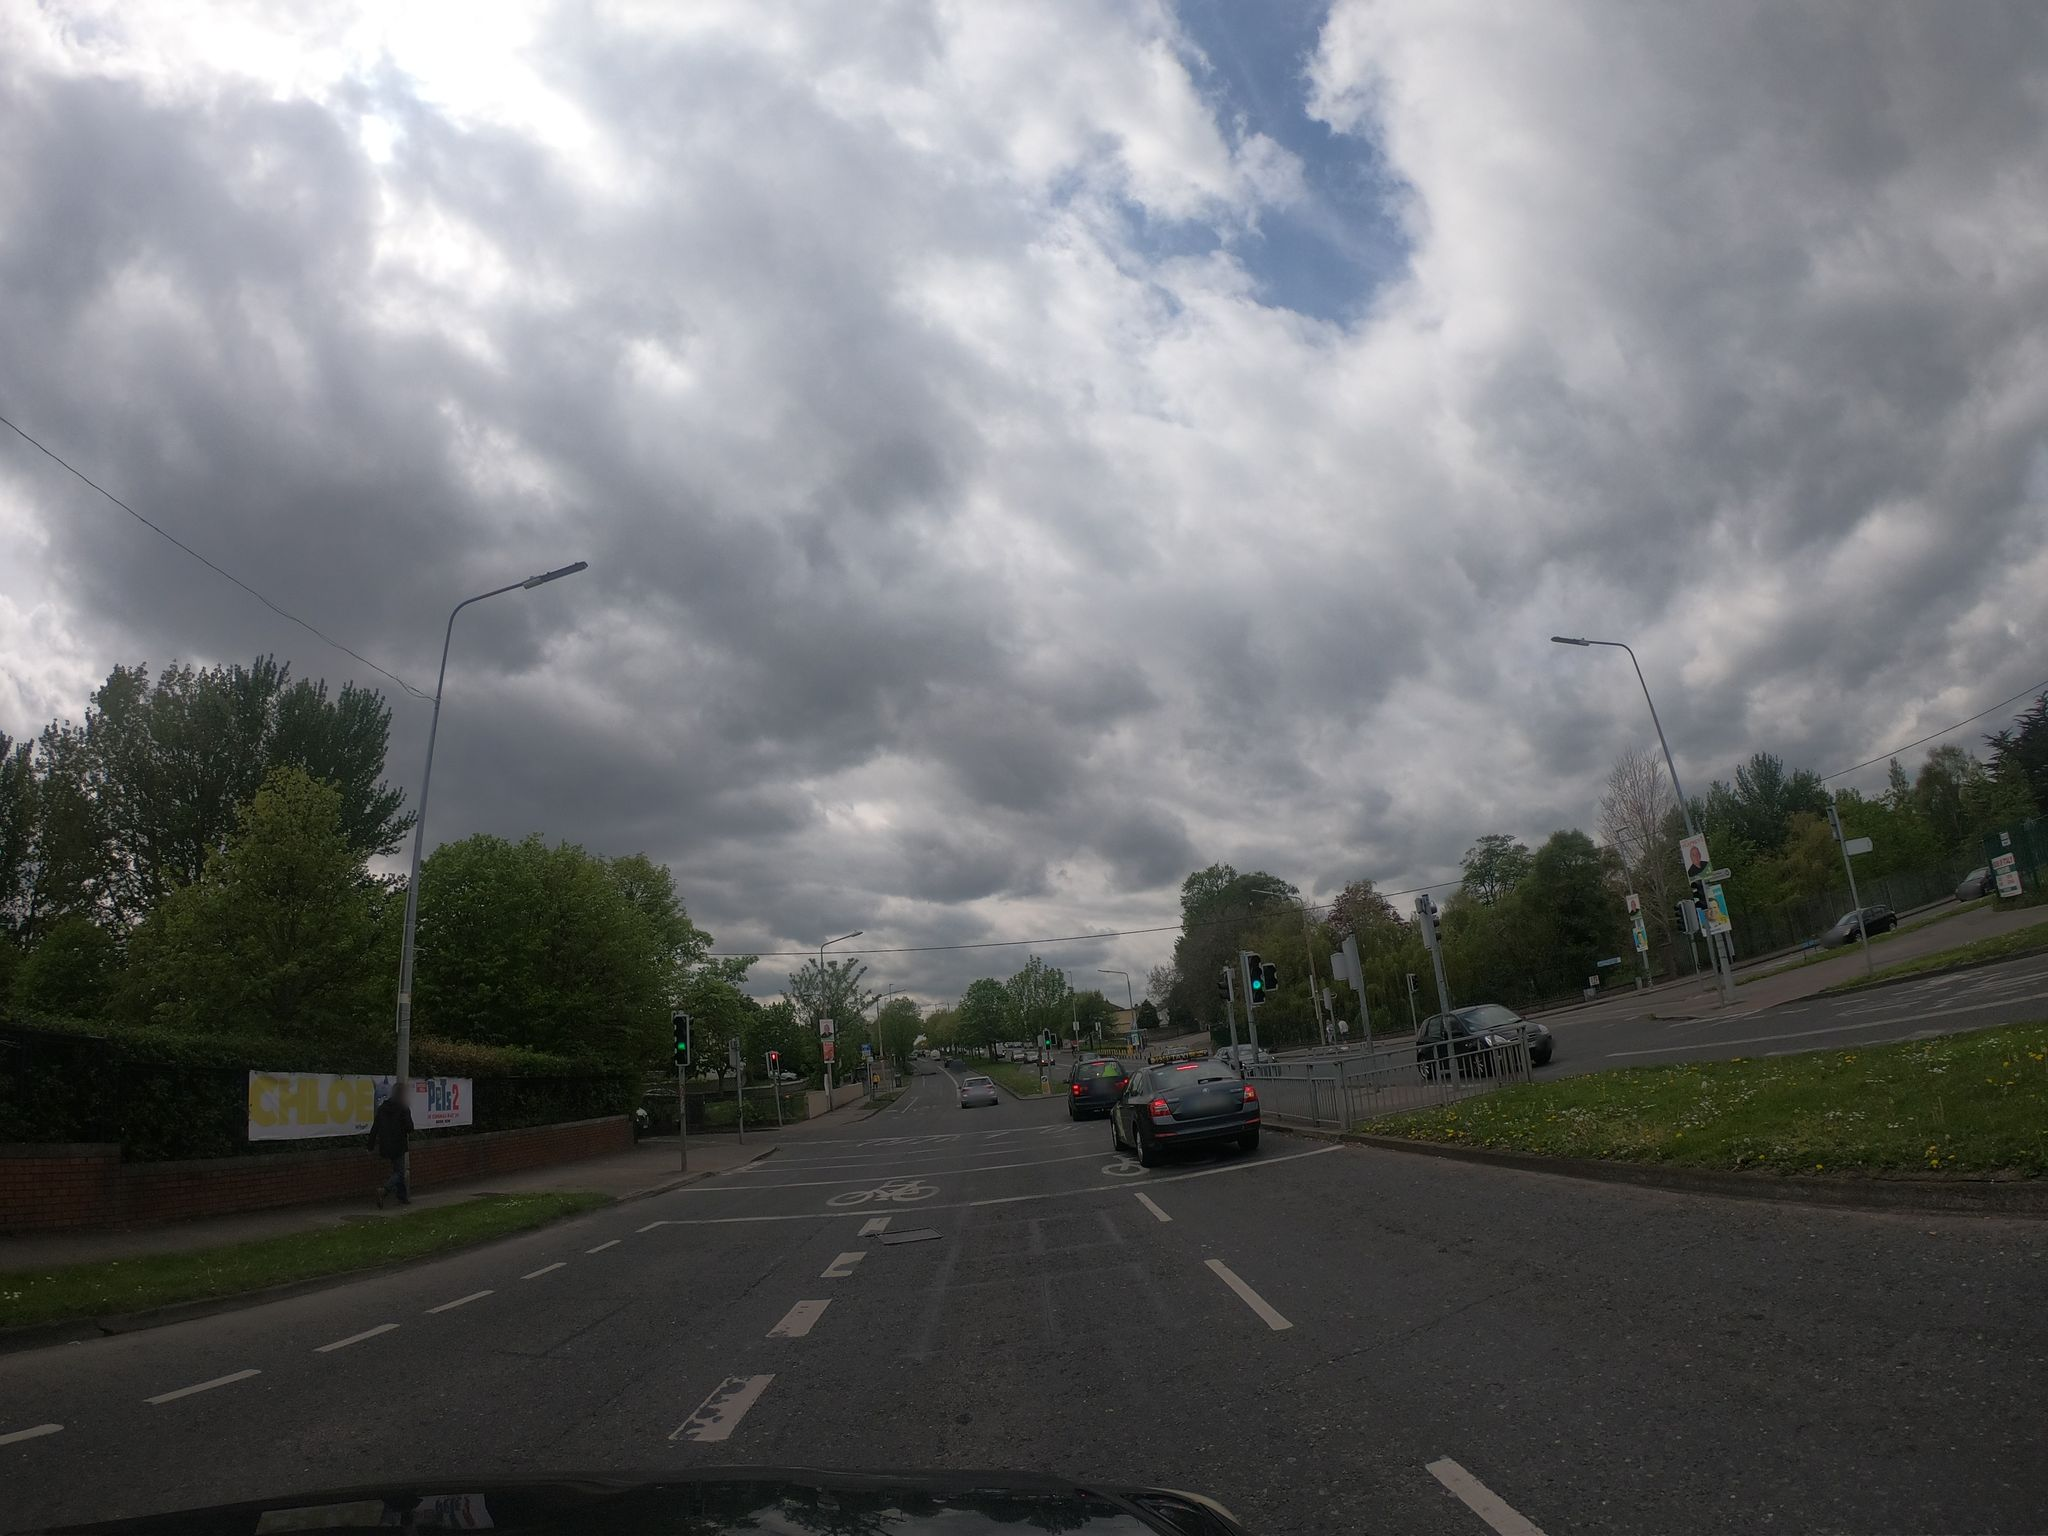vinyl banner: (244, 1054, 489, 1155)
